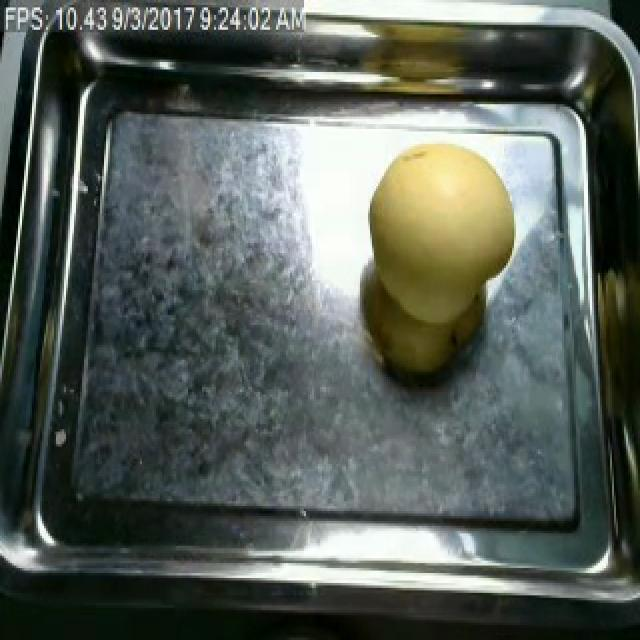Fruit: (360, 129, 526, 345)
